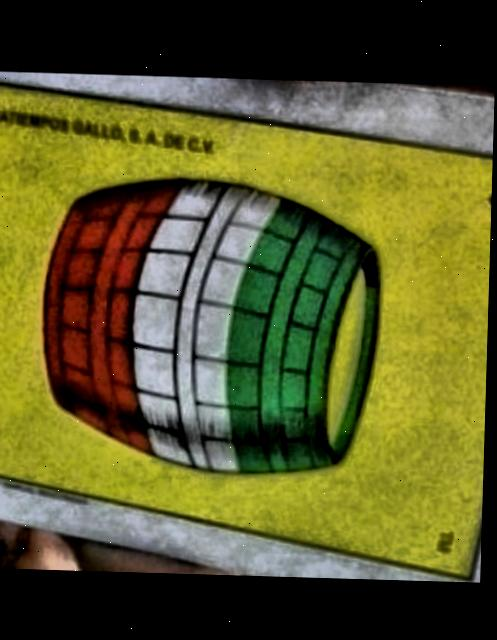El Barril: (0, 93, 494, 573)
